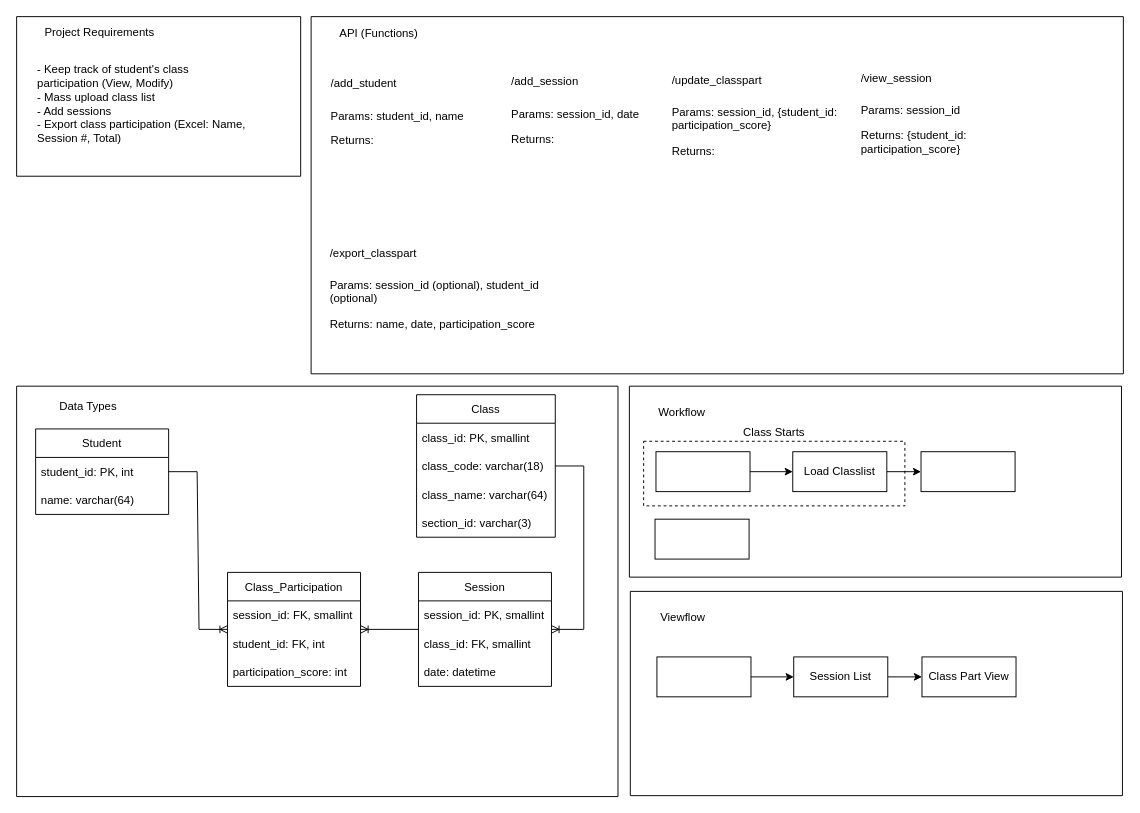
The diagram is 1140 pixels wide and 813 high, and some of its shapes have lost their labels. The shapes that lost their labels are listed below. From the top down, each one's centre as x and y in pixels, then its label:
At point 702,471: "Start lesson".
At point 967,471: "Insert records".
At point 701,538: "Update records".
At point 703,676: "Class List".
